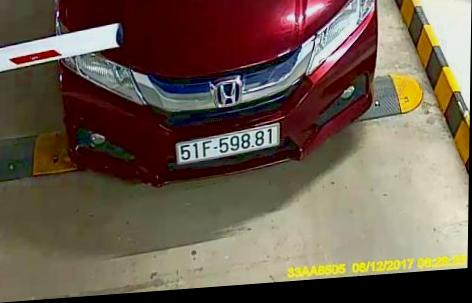License_Plate: (175, 123, 283, 164)
